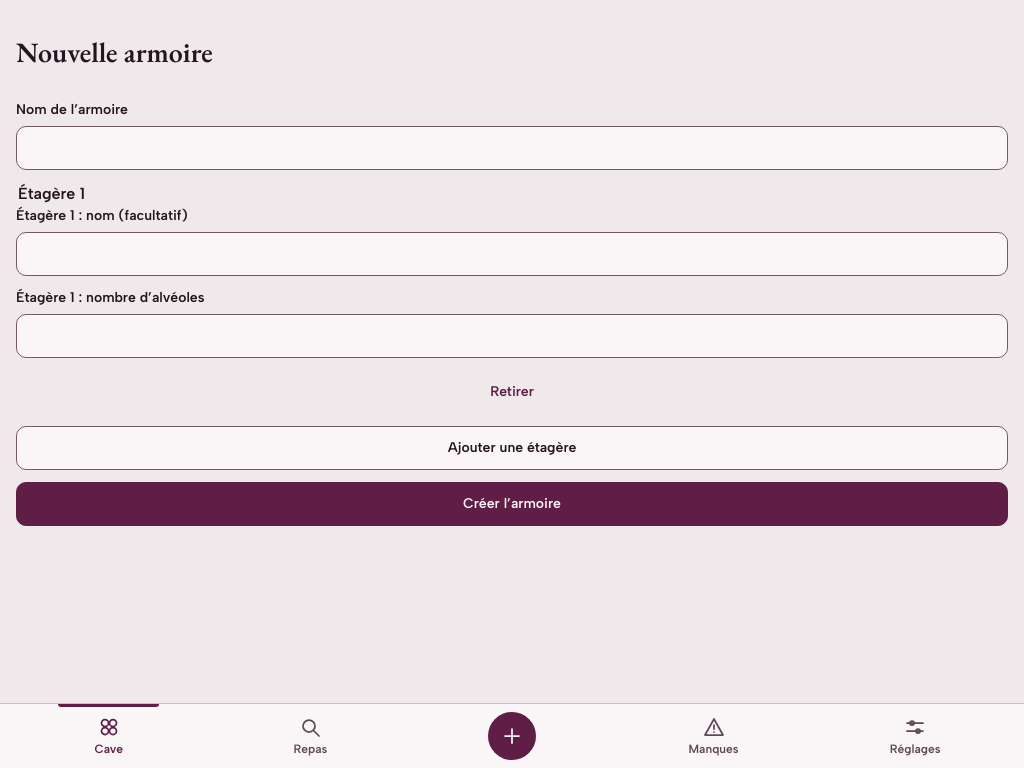
Nouvelle armoire › retirer une ligne d’étagère
Click the button "Ajouter une étagère" at (512, 448), box x1=16 y1=426 x2=1008 y2=470
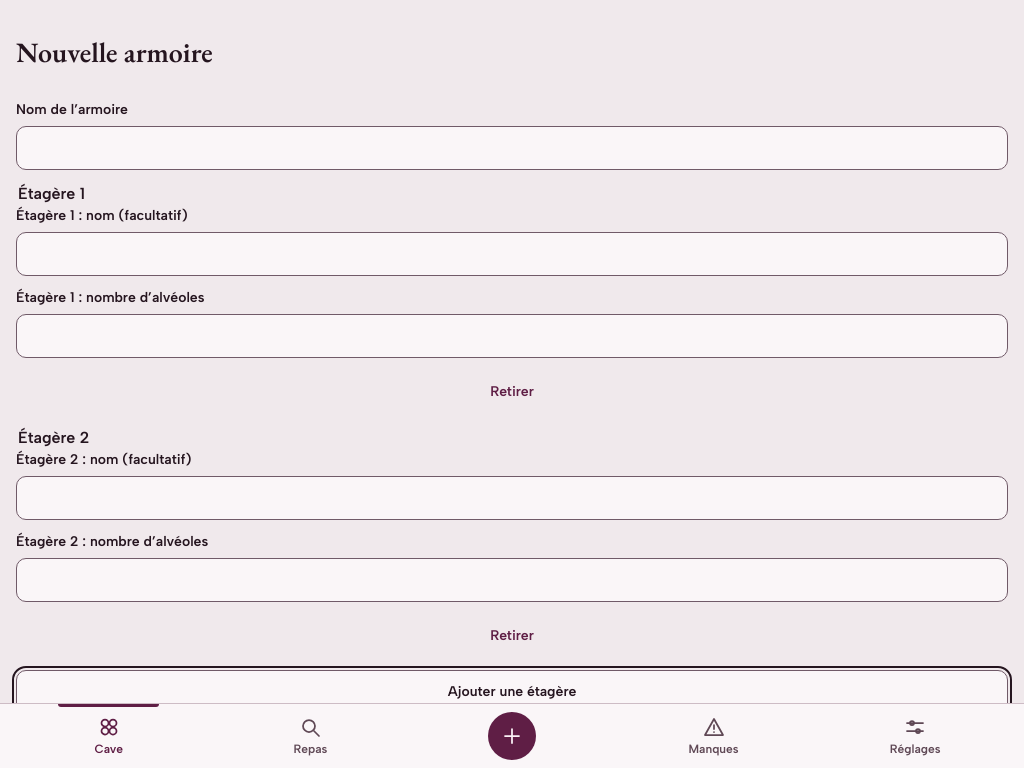
Click the button with aria-label "Retirer l’étagère 1" at (512, 392), box x1=16 y1=370 x2=1008 y2=414
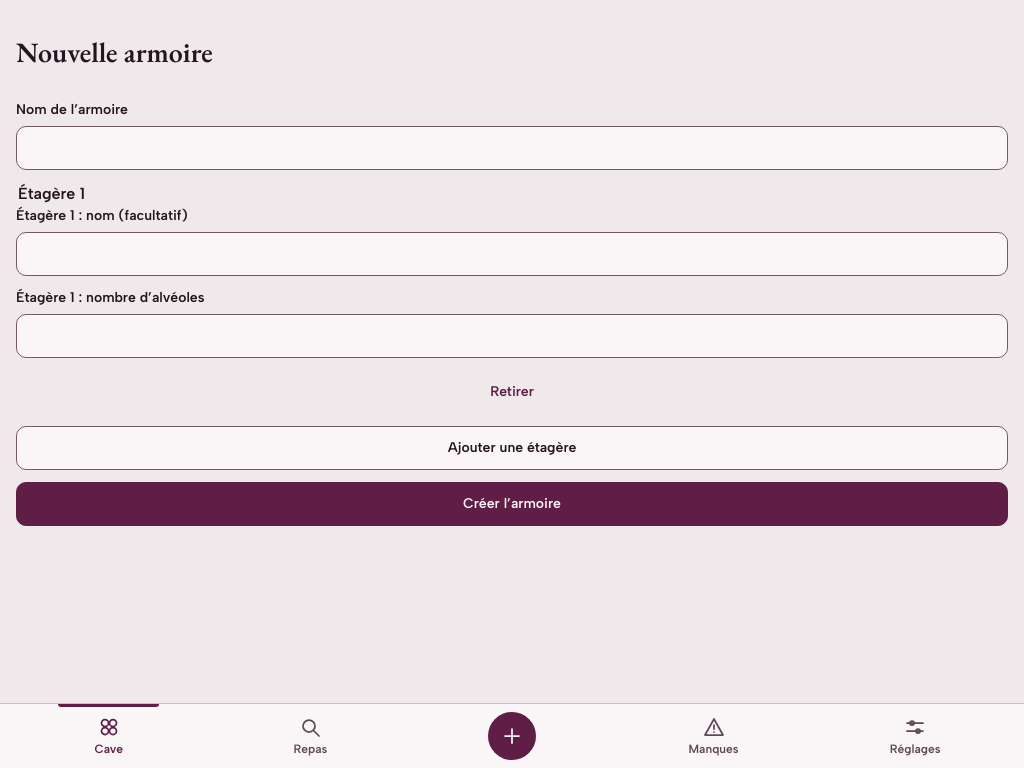
Expected: the field labelled "Étagère 1 : nombre d’alvéoles" is shown, x1=16 y1=314 x2=1008 y2=358
Expected: the label labelled "Étagère 2 : nombre d’alvéoles" is gone
